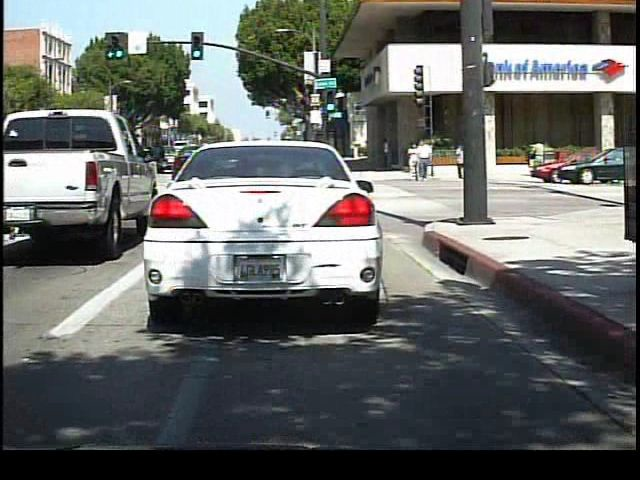person: (451, 136, 469, 182), (416, 136, 434, 182), (527, 135, 548, 174), (407, 140, 420, 181)
